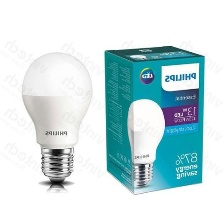carton: (101, 37, 209, 196)
light_bulb: (13, 47, 96, 195)
